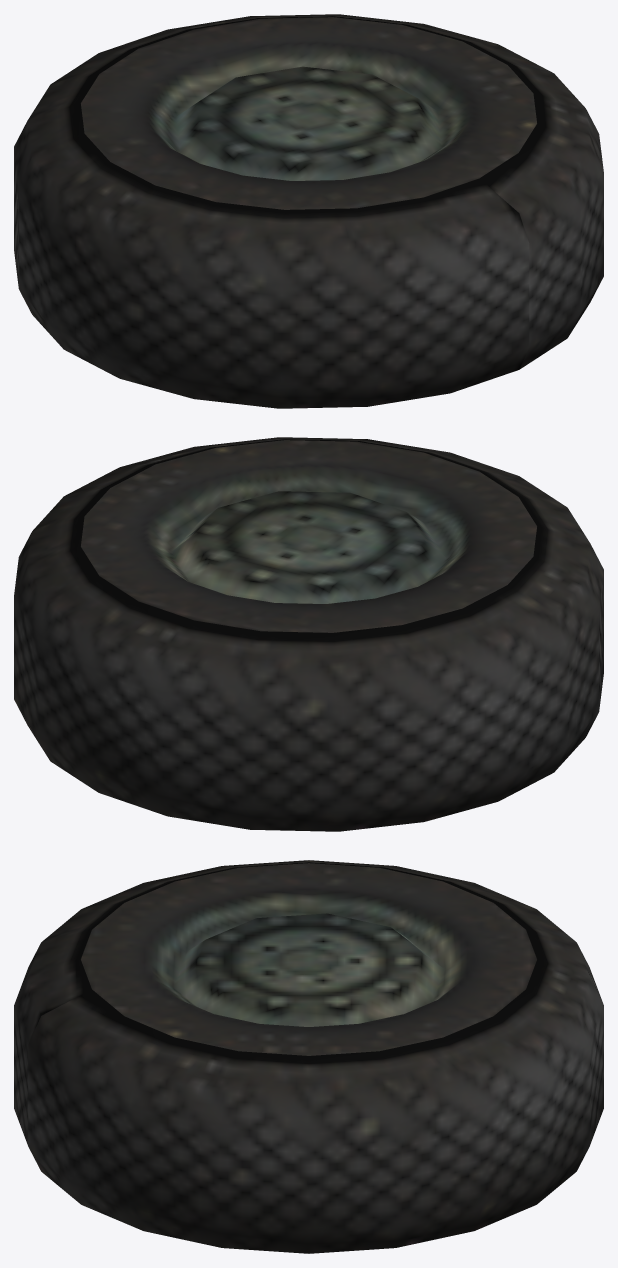
The model's file is Wheel02.FBX.
3 renders of one model, top to bottom at view 1: azimuth 30°, elevation 25°; view 2: azimuth 150°, elevation 25°; view 3: azimuth 270°, elevation 25°, orthographic.
Parts seen in each view (by area): view 1: Cylinder001; view 2: Cylinder001; view 3: Cylinder001.
Part boxes in pixels (left/top/right/bottom): Cylinder001: left=14, top=14, right=603, bottom=408; Cylinder001: left=14, top=437, right=603, bottom=831; Cylinder001: left=14, top=860, right=603, bottom=1253.
Bounding box in the file's own units: 1.51 × 0.5562 × 1.51.
